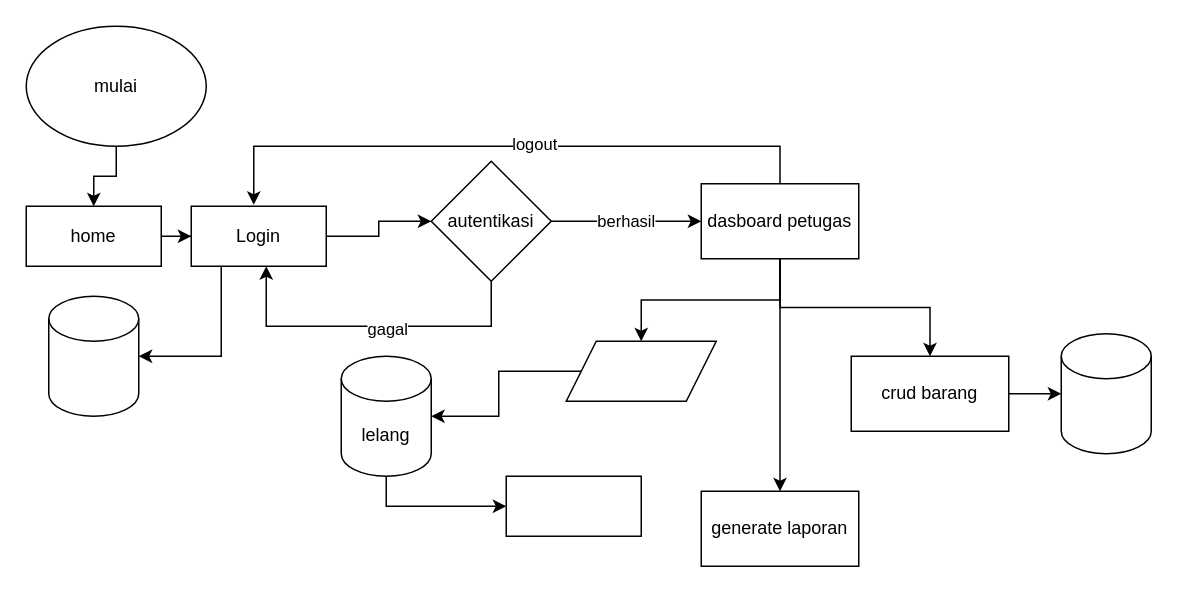
The diagram is 1178 pixels wide and 593 high, and some of its shapes have lost their labels. The centre of each missing label's shape, as x and y in pixels:
"barang" goes at point (1105, 393).
"create lelang" goes at point (640, 370).
"show data lelang" goes at point (573, 505).
"users" goes at point (93, 355).
